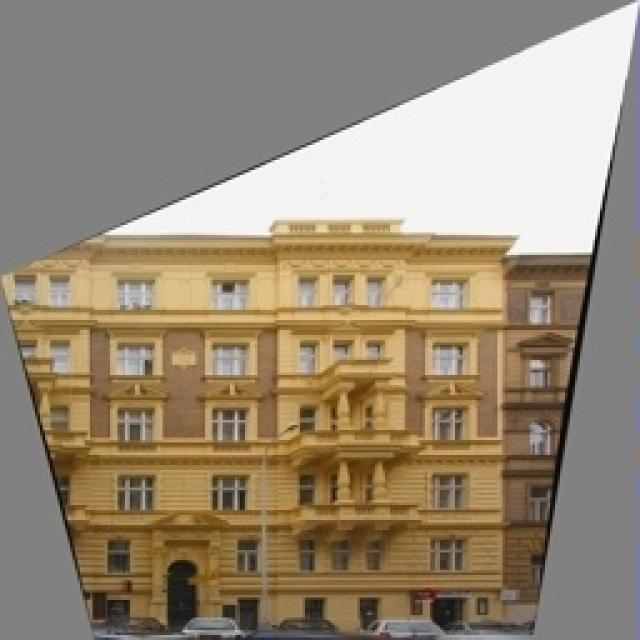building: (0, 217, 510, 640)
